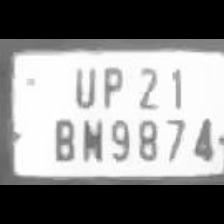1: (163, 62, 189, 110)
2: (130, 62, 160, 110)
4: (186, 113, 216, 162)
7: (160, 110, 186, 162)
8: (133, 113, 159, 162)
9: (105, 114, 131, 160)
B: (48, 113, 78, 162)
N: (78, 113, 104, 162)
P: (96, 60, 126, 110)
U: (68, 62, 98, 108)
